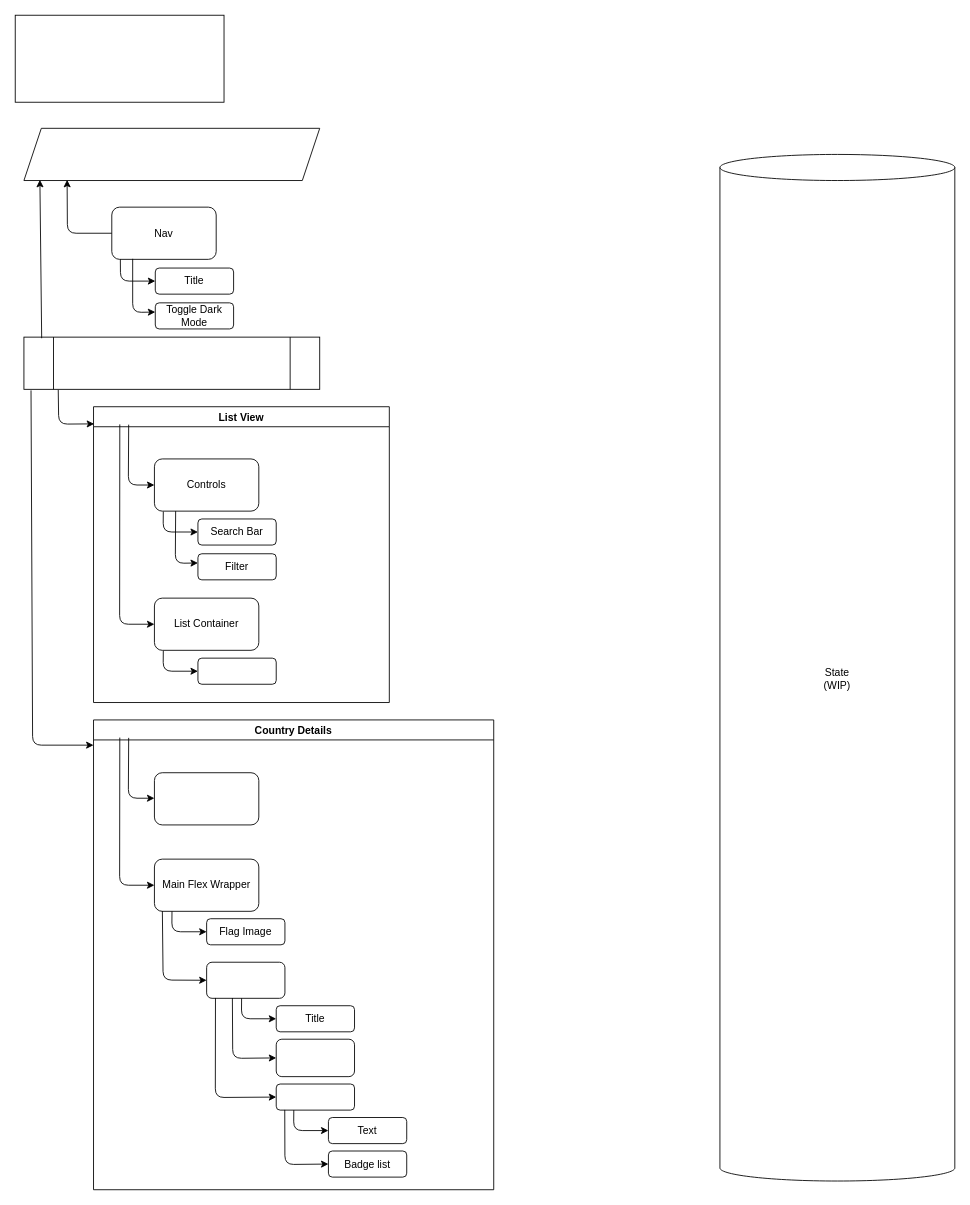
The diagram is 970 pixels wide and 1205 high, and some of its shapes have lost their labels. The centre of each missing label's shape, as x and y in pixels:
APP: the point at 119,58
Back nav link: the point at 206,798
Border countries: the point at 315,1096
Card: the point at 236,670
Details section 1 & 2: the point at 315,1057
LAYOUT: the point at 171,154
Nation Details Wrapper: the point at 245,979
ROUTER: the point at 171,362
